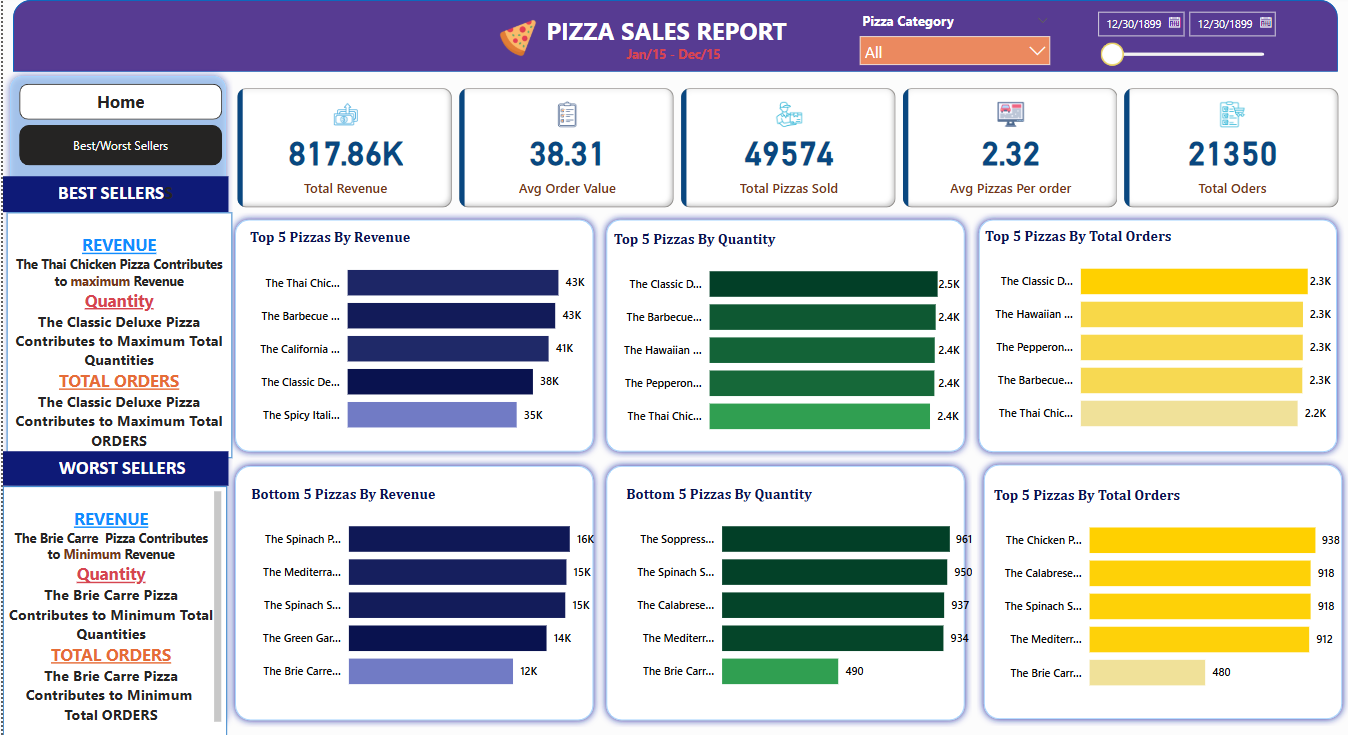

This screenshot's page, from the dashboard's own definition file:
{"tool":"powerbi","page":{"name":"Best/Worst Sellers","canvas":[1500,820],"ordinal":1},"visuals":[{"type":"cardVisual","fields":{"Data":["pizza_sales_excel_file.total revenue","pizza_sales_excel_file.Avg Order Value","pizza_sales_excel_file.total pizzas sold","pizza_sales_excel_file.Avg Pizzas Per order","pizza_sales_excel_file.Total Oders"]},"box":[256.3,93.3,1238.1,143.4],"z":0},{"type":"shape","box":[11.3,0,1476.2,80],"z":1000},{"type":"textbox","box":[599.8,11.3,294.3,51.5],"z":2000},{"type":"textbox","box":[689.9,46.6,115.8,30.6],"z":3000},{"type":"image","box":[546.7,16.1,53.1,51.5],"z":4000},{"type":"shape","box":[250.7,236.8,415,274.4],"z":5000},{"type":"shape","box":[0,76.6,256.3,740.9],"z":6000},{"type":"textbox","box":[0,196.2,250.9,40.2],"z":7000},{"type":"textbox","box":[4.8,236.4,250.9,273.4],"z":8000},{"type":"textbox","box":[0,503.3,250.9,38.6],"z":9000},{"type":"textbox","box":[0,541.9,249.3,278.2],"z":10000},{"type":"slicer","fields":{"Values":["pizza_sales_excel_file.pizza_category"]},"box":[944.2,8.4,232.6,64.1],"z":11000},{"type":"slicer","fields":{"Values":["pizza_sales_excel_file.order_time"]},"box":[1207.4,2.8,218.6,79.4],"z":12000},{"type":"shape","box":[664.3,236.8,415,274.4],"z":13000},{"type":"shape","box":[1079,236.4,414.9,275],"z":14000},{"type":"shape","box":[250.7,511.1,415,299.4],"z":15000},{"type":"shape","box":[664.3,511.1,415,299.4],"z":16000},{"type":"shape","box":[1084.9,509.7,415,299.4],"z":17000},{"type":"barChart","title":"Top 5 Pizzas By Revenue","fields":{"Category":["pizza_sales_excel_file.pizza_name"],"Y":["pizza_sales_excel_file.Total Revenue"]},"box":[270.2,254.9,405.3,242.3],"z":18000},{"type":"barChart","title":"Bottom 5 Pizzas By Revenue","fields":{"Category":["pizza_sales_excel_file.pizza_name"],"Y":["pizza_sales_excel_file.Total Revenue"]},"box":[271.8,540.3,405.2,242.8],"z":19000},{"type":"barChart","title":"Top 5 Pizzas By Quantity","fields":{"Category":["pizza_sales_excel_file.pizza_name"],"Y":["pizza_sales_excel_file.Total Pizzas Sold"]},"box":[675.4,255.7,395.6,242.8],"z":20000},{"type":"barChart","title":"Bottom 5 Pizzas By Quantity","fields":{"Category":["pizza_sales_excel_file.pizza_name"],"Y":["pizza_sales_excel_file.Total Pizzas Sold"]},"box":[689.9,540.3,395.6,242.8],"z":21000},{"type":"barChart","title":"Top 5 Pizzas By Total Orders","fields":{"Category":["pizza_sales_excel_file.pizza_name"],"Y":["pizza_sales_excel_file.Total Oders"]},"box":[1089.1,253.5,395.5,242.3],"z":22000},{"type":"barChart","title":"Top 5 Pizzas By Total Orders","fields":{"Category":["pizza_sales_excel_file.pizza_name"],"Y":["pizza_sales_excel_file.Total Oders"]},"box":[1098.3,541.9,395.6,242.8],"z":23000},{"type":"pageNavigator","box":[17.7,93.3,226.7,40.2],"z":24000},{"type":"pageNavigator","box":[17.7,139.9,226.7,45],"z":25000}]}

Visuals, with their boxes in screenshot pixels (x1, y1, x2, y2), scaled from the page's 1500x820 canvas onto the 1348x735 screenshot:
cardVisual - pizza_sales_excel_file.total revenue x pizza_sales_excel_file.Avg Order Value: 230 84 1343 212
shape: 10 0 1337 72
textbox: 539 10 803 56
textbox: 620 42 724 69
image: 491 14 539 61
shape: 225 212 598 458
shape: 0 69 230 733
textbox: 0 176 225 212
textbox: 4 212 230 457
textbox: 0 451 225 486
textbox: 0 486 224 734
slicer - pizza_sales_excel_file.pizza_category: 849 8 1058 65
slicer - pizza_sales_excel_file.order_time: 1085 3 1281 74
shape: 597 212 970 458
shape: 970 212 1343 458
shape: 225 458 598 726
shape: 597 458 970 726
shape: 975 457 1347 725
"Top 5 Pizzas By Revenue" barChart: 243 228 607 446
"Bottom 5 Pizzas By Revenue" barChart: 244 484 608 702
"Top 5 Pizzas By Quantity" barChart: 607 229 962 447
"Bottom 5 Pizzas By Quantity" barChart: 620 484 976 702
"Top 5 Pizzas By Total Orders" barChart: 979 227 1334 444
"Top 5 Pizzas By Total Orders" barChart: 987 486 1343 703
pageNavigator: 16 84 220 120
pageNavigator: 16 125 220 166
